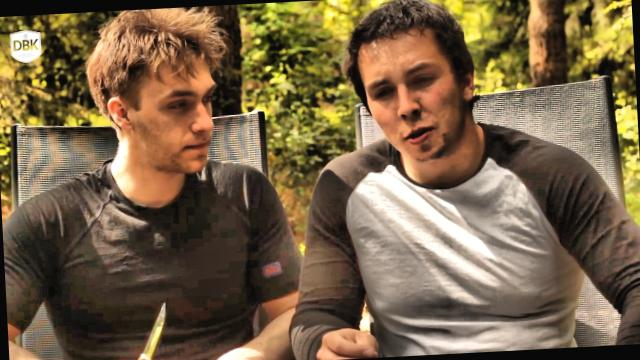knife: (108, 292, 181, 360)
